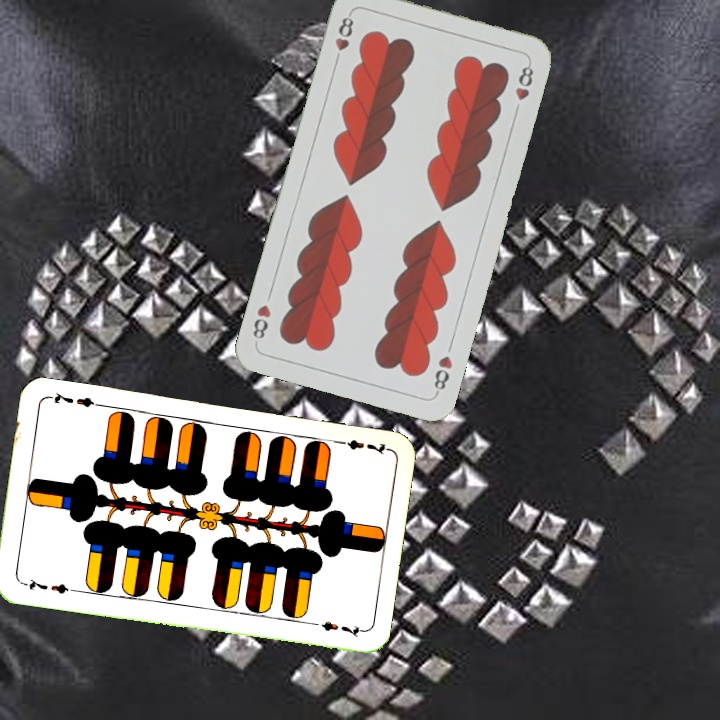E7: (18, 574, 77, 597), (331, 436, 390, 457)
H8: (330, 9, 356, 67), (429, 351, 455, 397)
